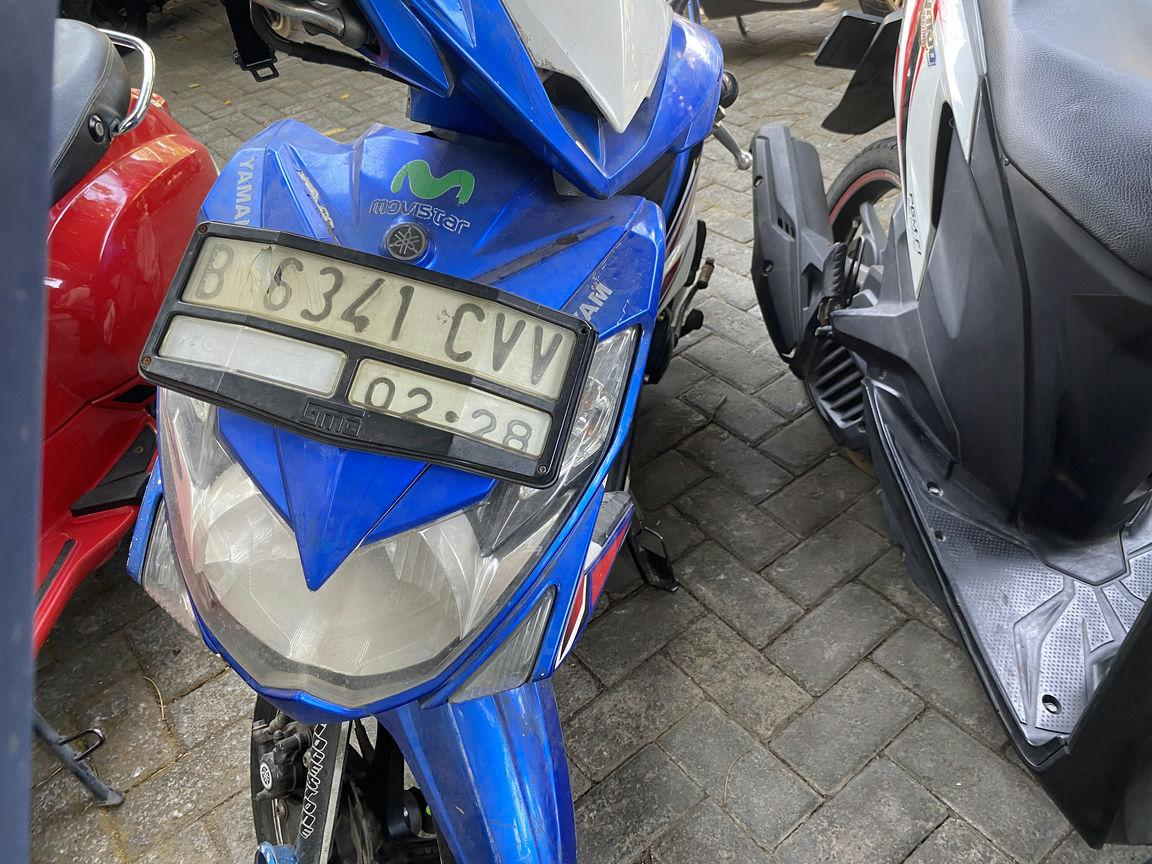plat: (144, 223, 596, 486)
